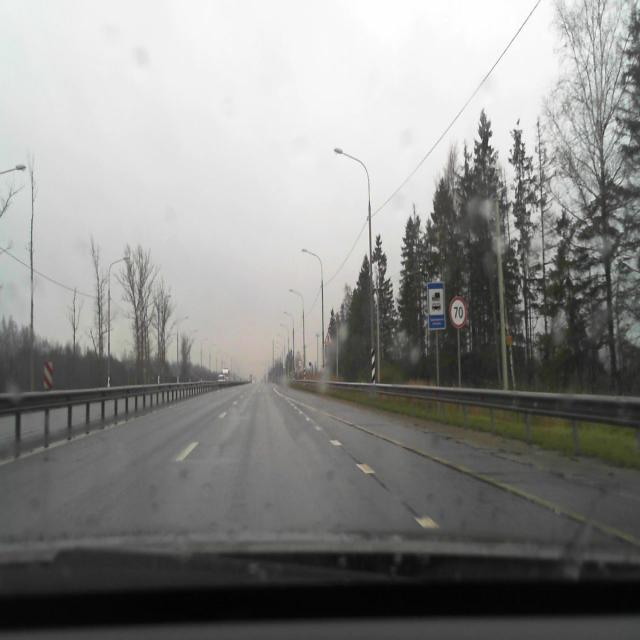road sign: (427, 282, 446, 329)
